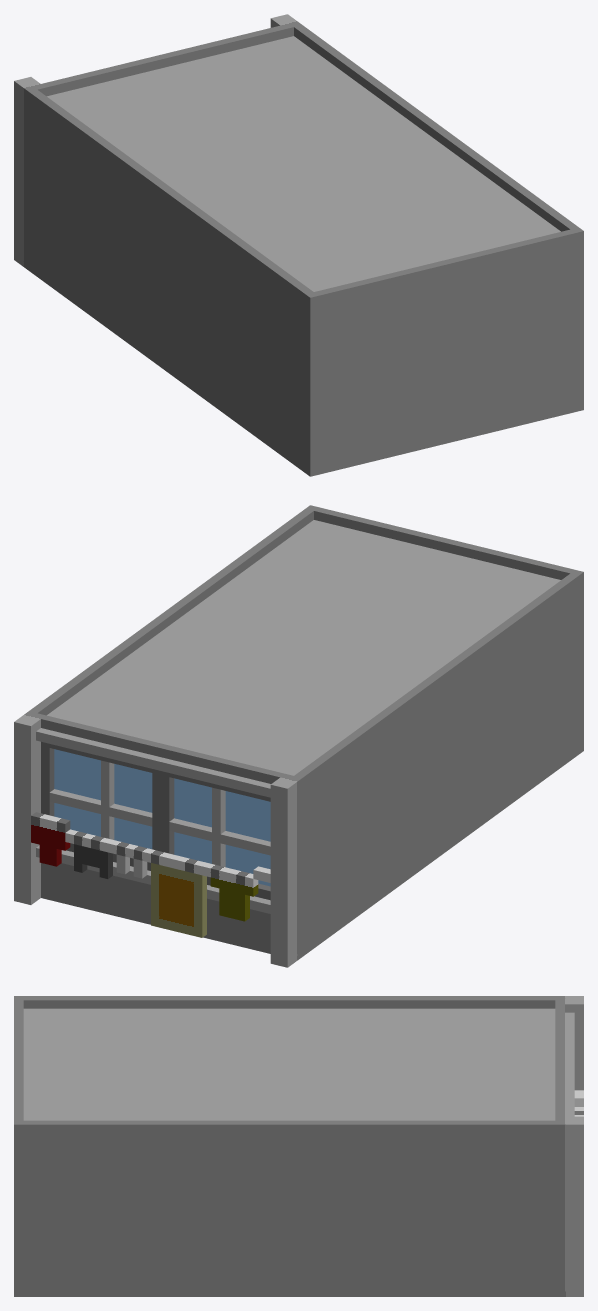
The model's file is obj_story01b.fbx.
3 views of the same model, one above another, from view 1: azimuth 30°, elevation 25°; view 2: azimuth 150°, elevation 25°; view 3: azimuth 270°, elevation 25° (orthographic). The views are drawn at different scales.
Parts seen in each view (by area): view 1: obj_story01b; view 2: obj_story01b; view 3: obj_story01b.
Boxes of the visible parts, x1=… form: obj_story01b: x1=14, y1=14, x2=583, y2=476; obj_story01b: x1=14, y1=505, x2=583, y2=967; obj_story01b: x1=14, y1=996, x2=583, y2=1296.
Size of the model in its own units: 3.2 by 6 by 2.
Materials: 1 (1 with a texture image).
